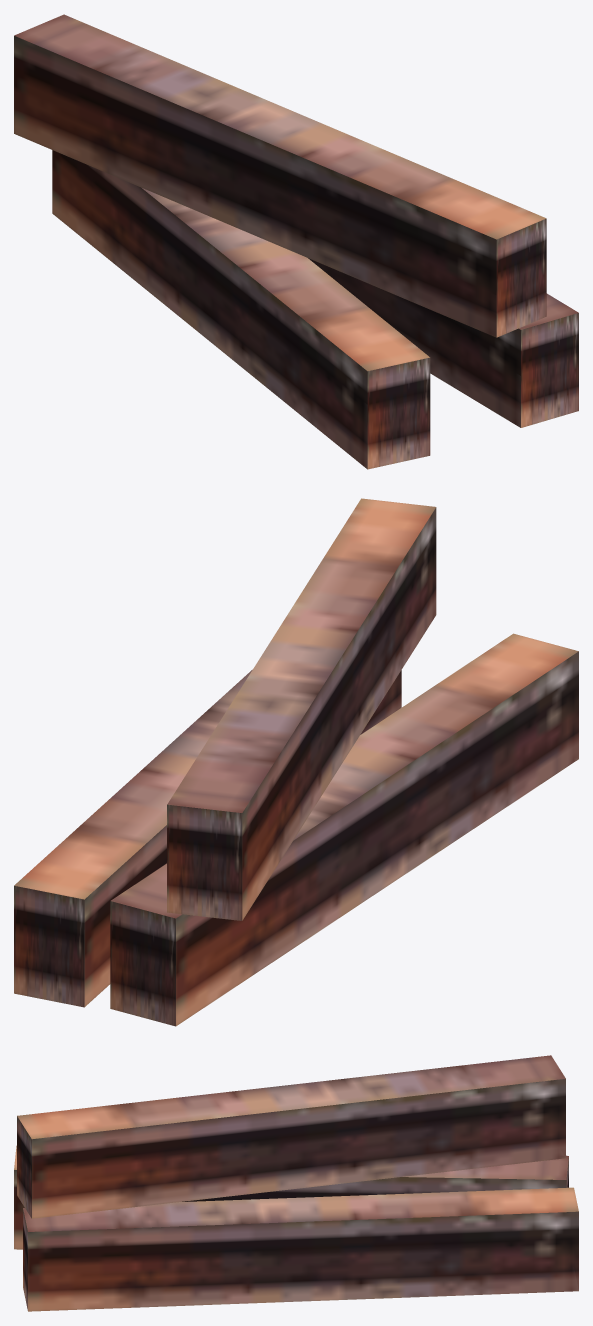
The model's file is Environment - Prop - CONSUP 04 - PMCONSUP04.glb.
The picture shows the model from 3 angles, top to bottom: view 1: azimuth 30°, elevation 25°; view 2: azimuth 150°, elevation 25°; view 3: azimuth 270°, elevation 25°; orthographic projection. The views are drawn at different scales.
Visible parts, largest first — view 1: PMCONSUP04; view 2: PMCONSUP04; view 3: PMCONSUP04.
Part boxes in pixels (box(x1,y1,x2,y2)): PMCONSUP04: box(14, 14, 578, 469); PMCONSUP04: box(14, 498, 578, 1026); PMCONSUP04: box(14, 1055, 578, 1311).
Bounding box in the file's own units: 8.1 × 6.33 × 20.19.
Materials: 1 (1 with a texture image).
